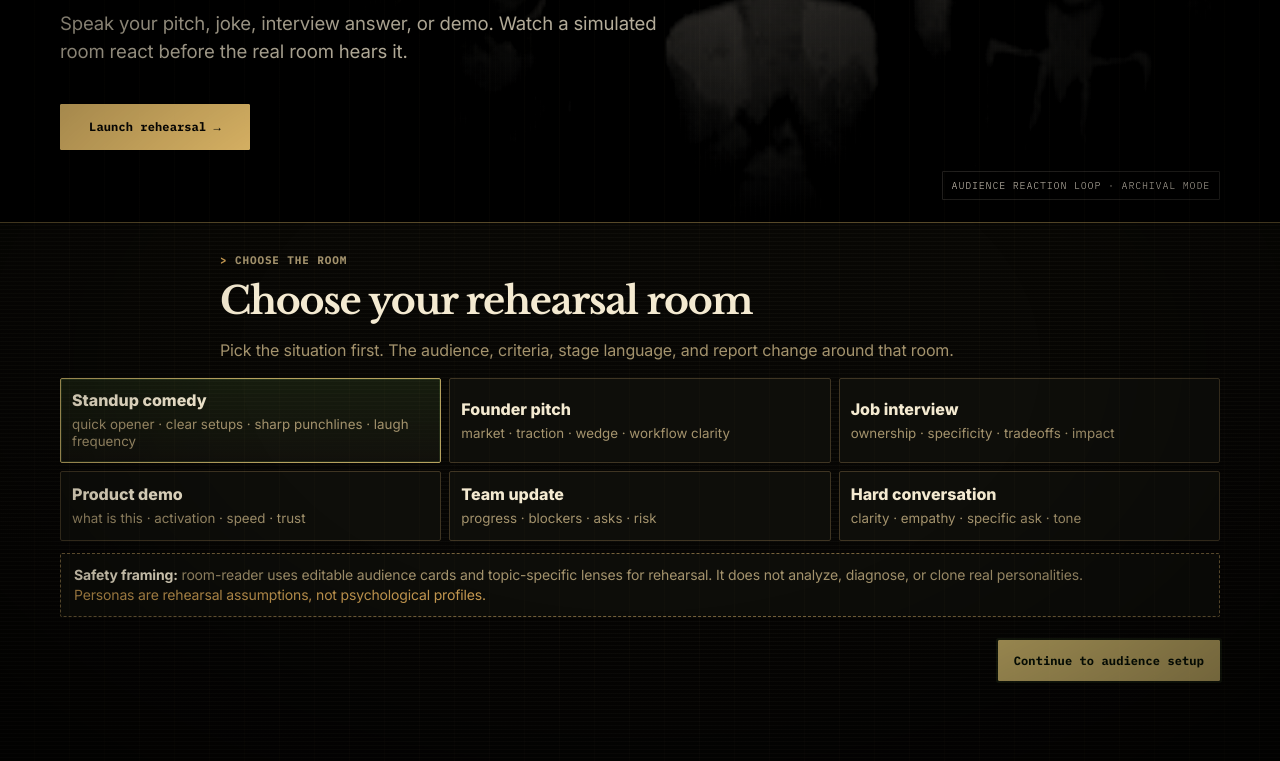
Test: room-reader rendered page › applies captured mic speech to audience agents when mic is turned off
The image size is (1280, 761).
(page scrolled)
Click the button "Continue to audience setup": (1109, 660) [998,640,1220,681]
(page scrolled)
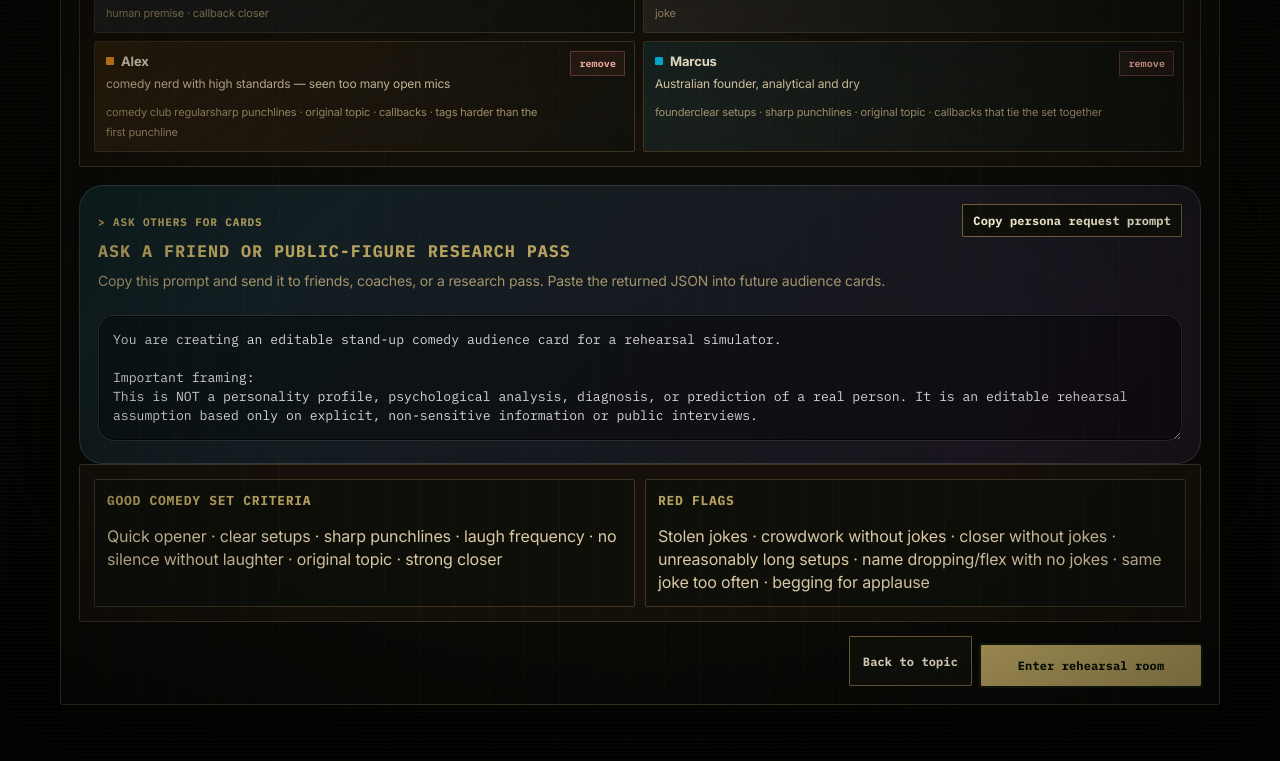
Click the button "Enter rehearsal room": (1091, 666) [981,645,1201,686]
(page scrolled)
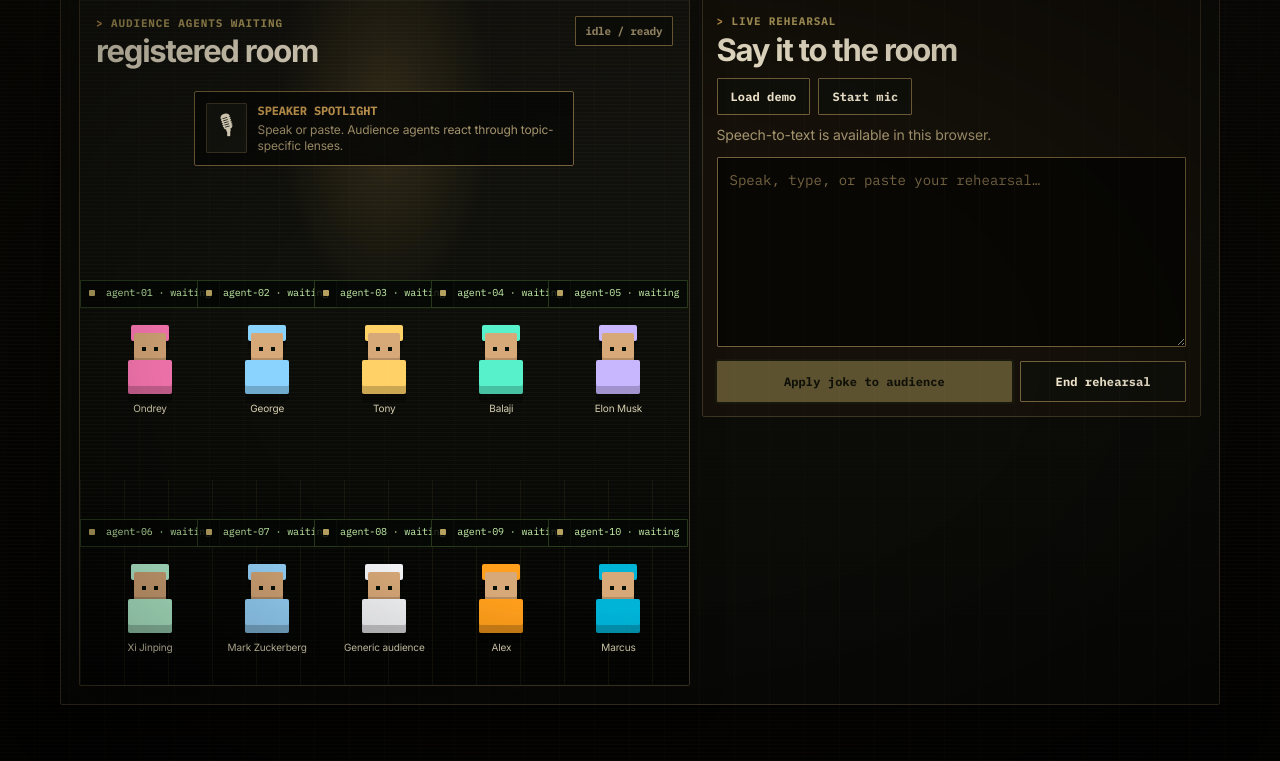
Click the button "Start mic": (865, 96) [818,78,912,115]
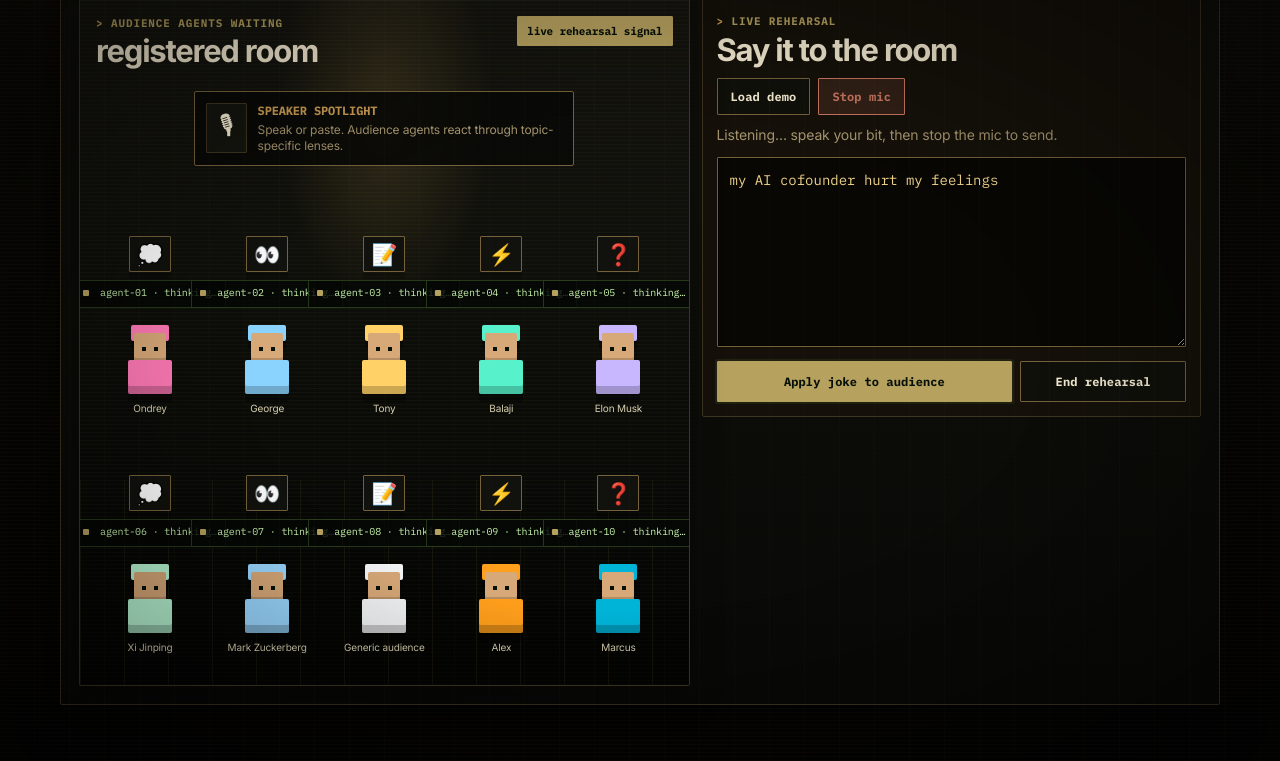
Expected: the button "Stop mic" is shown
Expected: the text box named "rehearsal transcript textarea fallback" holds "my AI cofounder hurt my feelings", [716,156,1186,346]
Click the button "Stop mic": (862, 96) [818,78,905,115]
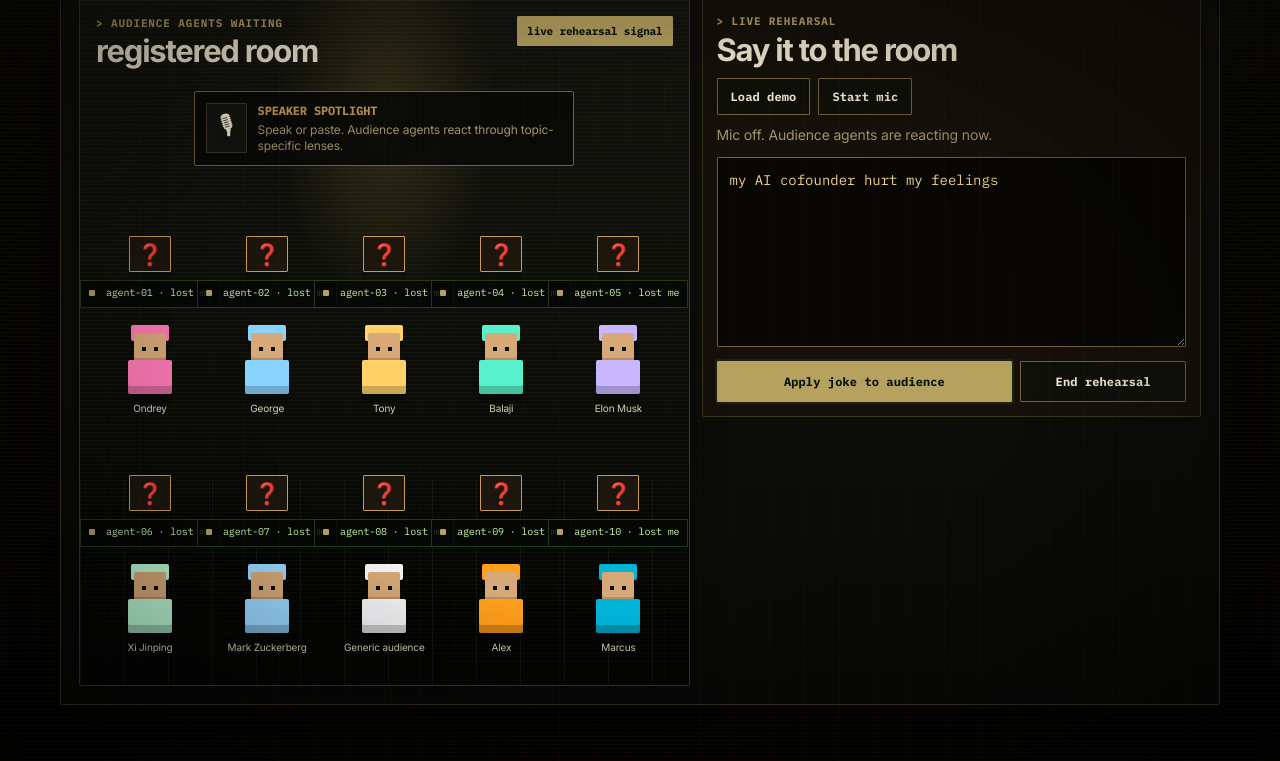
Expected: the text named "reaction" is shown, [129,236,171,272]
